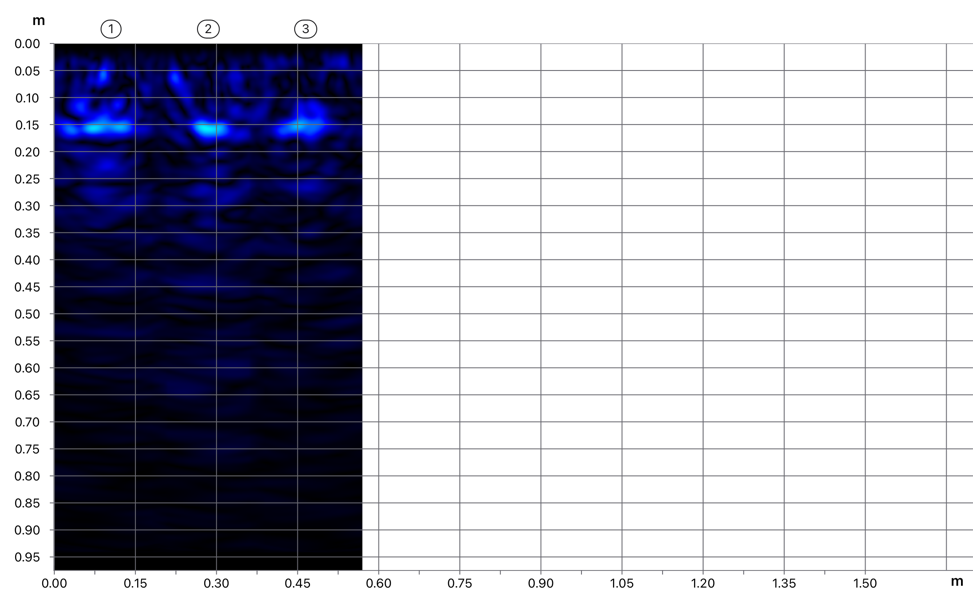crop: (1, 3, 363, 330)
